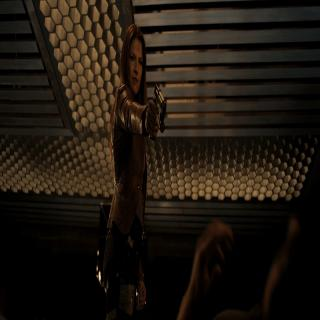gun: (145, 82, 169, 146)
